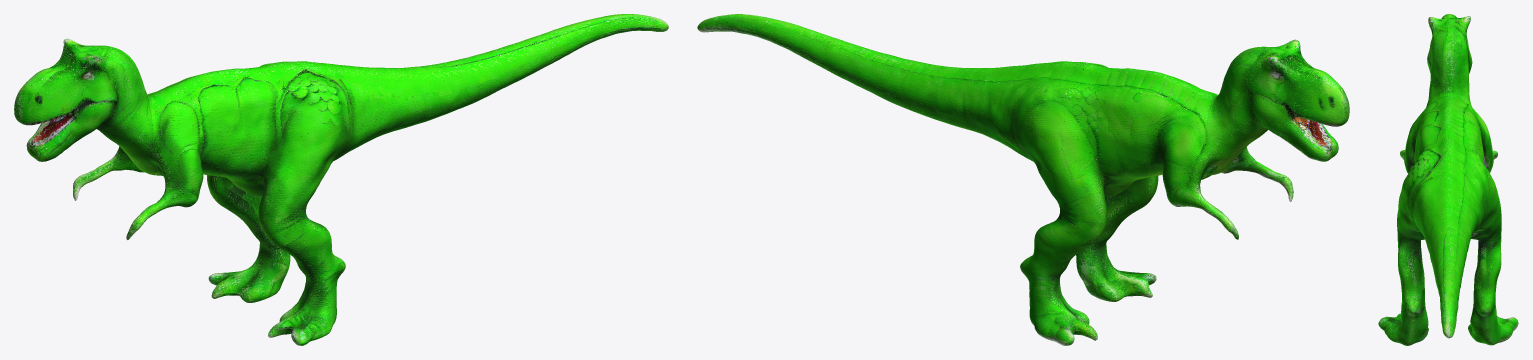
The model's file is textured_simple.glb.
3 renders of one model, left to right at view 1: azimuth 30°, elevation 25°; view 2: azimuth 150°, elevation 25°; view 3: azimuth 270°, elevation 25°, orthographic. The views are drawn at different scales.
Visible parts, largest first — view 1: Node; view 2: Node; view 3: Node.
Boxes of the visible parts, left/top/right/bottom form: Node: left=14, top=14, right=668, bottom=345; Node: left=697, top=14, right=1349, bottom=345; Node: left=1378, top=14, right=1518, bottom=345.
Size of the model in its own units: 2 by 0.9168 by 0.4752.
Materials: 1 (1 with a texture image).
